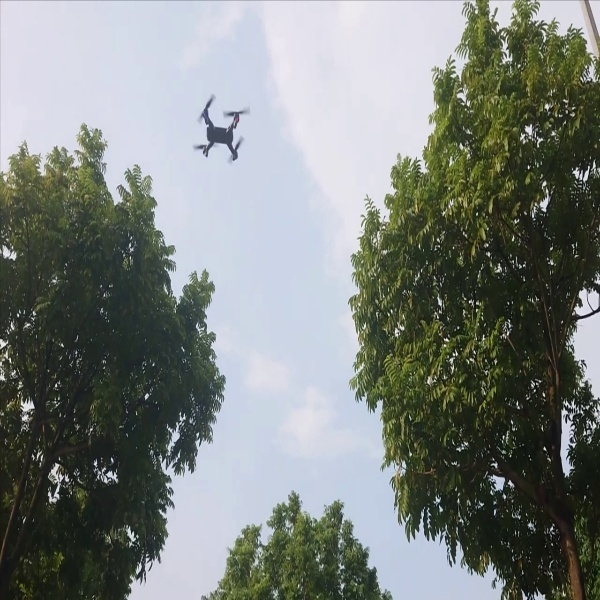drone: (190, 91, 253, 171)
